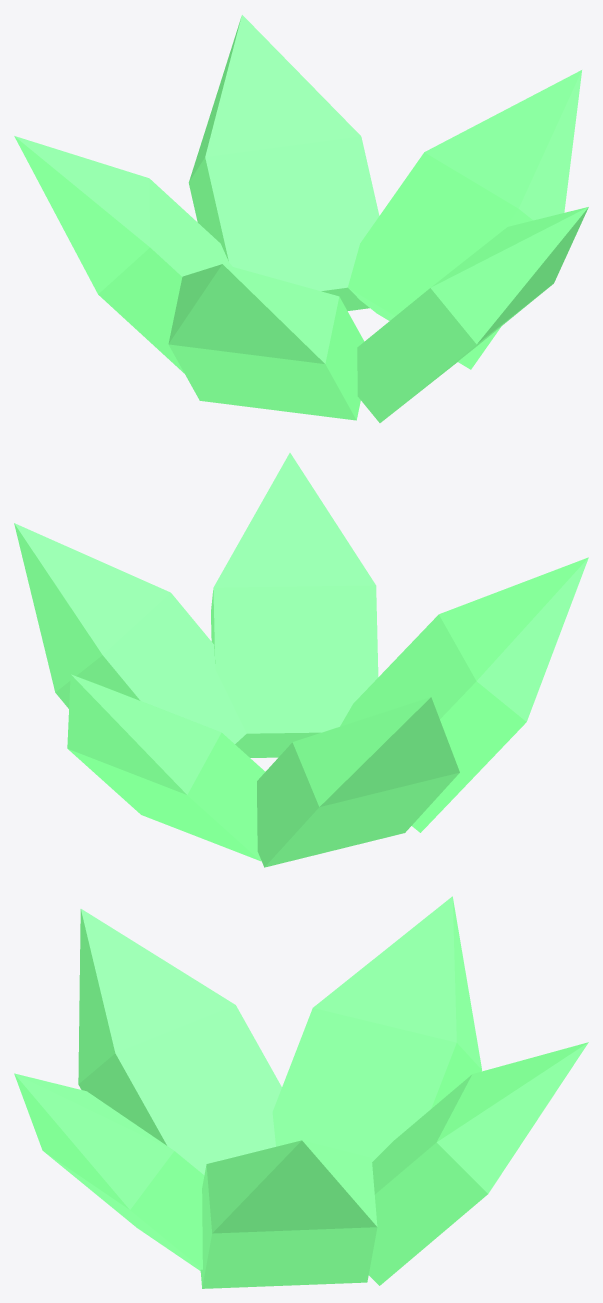
Rendered from grass00.fbx.
The picture shows the model from 3 angles, top to bottom: view 1: azimuth 30°, elevation 25°; view 2: azimuth 150°, elevation 25°; view 3: azimuth 270°, elevation 25°; orthographic projection.
Parts seen in each view (by area): view 1: beach_grass01; view 2: beach_grass01; view 3: beach_grass01.
Boxes of the visible parts, <box> form: beach_grass01: <box>14,15,588,422</box>; beach_grass01: <box>14,453,588,867</box>; beach_grass01: <box>14,896,588,1288</box>.
Bounding box in the file's own units: 1.51 × 0.6595 × 1.51.
